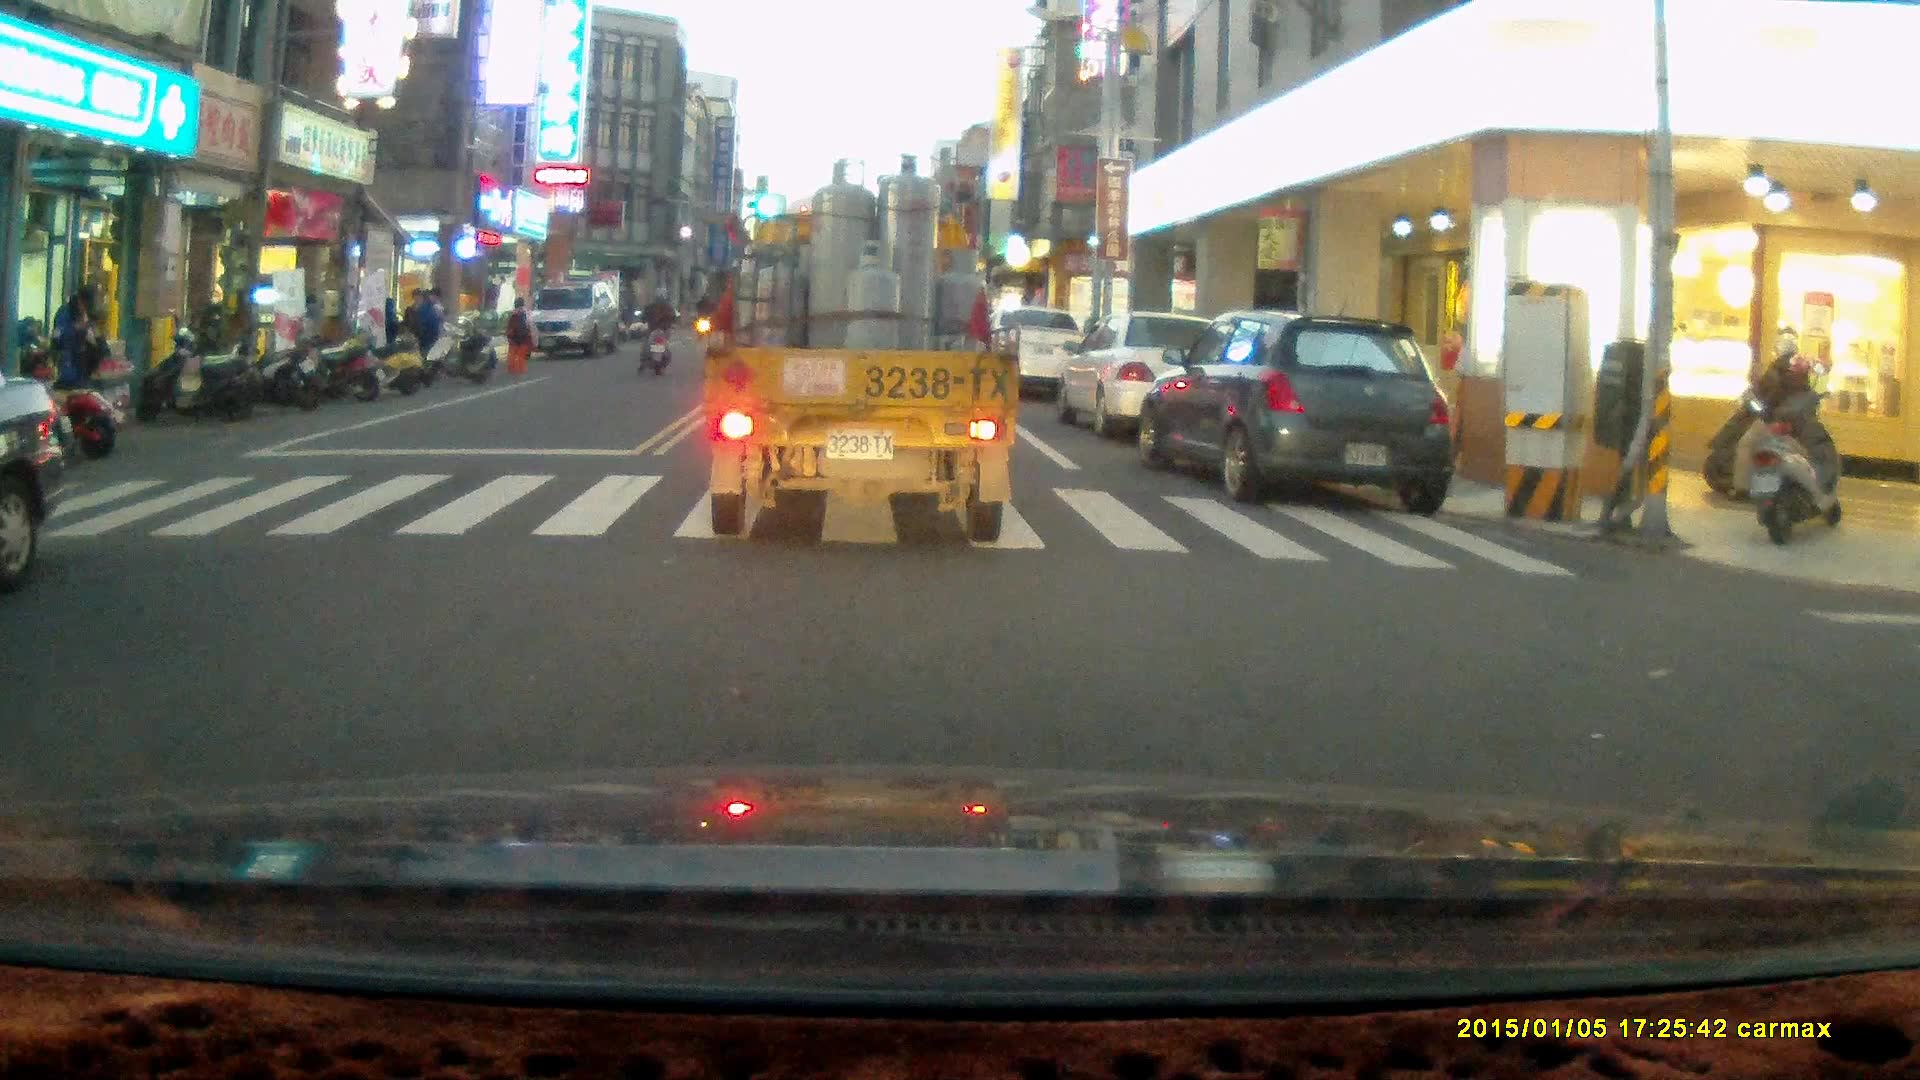pedestrian: (46, 278, 109, 407), (410, 285, 447, 377), (202, 287, 232, 377), (504, 294, 532, 377)
rider: (1700, 329, 1835, 505), (632, 281, 679, 374)
vehicle: (705, 150, 1023, 545), (1136, 309, 1461, 508), (1062, 308, 1248, 435), (1, 347, 75, 587), (976, 303, 1100, 404), (525, 281, 626, 357)
